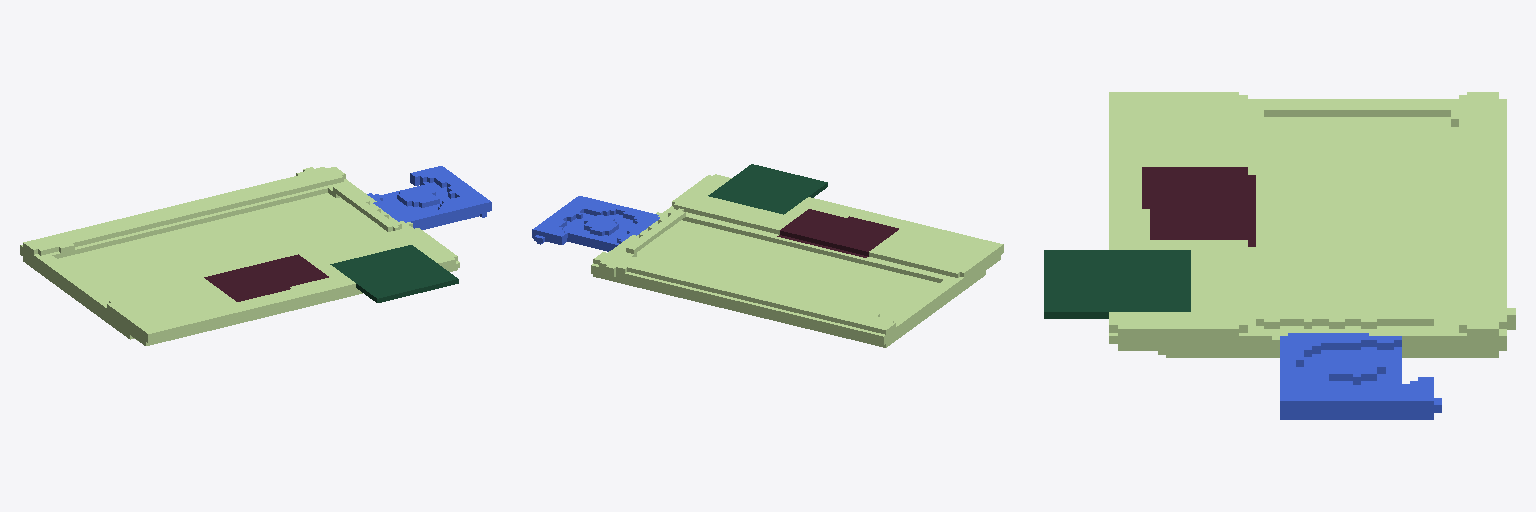
URDF robot description (physxnet_10108_strict):
<?xml version='1.0' encoding='utf-8'?>
<robot name="physxnet_10108_strict">
  <link name="l_world">
    <inertial>
      <origin xyz="0 0 0" rpy="0 0 0" />
      <mass value="0.0100000000" />
      <inertia ixx="0.0000001667" ixy="0.0" ixz="0.0" iyy="0.0000001667" iyz="0.0" izz="0.0000001667" />
    </inertial>
  </link><link name="l_0">
    <inertial>
      <origin xyz="0.1377106810 0.0162584643 -0.0713351551" rpy="0 0 0" />
      <mass value="0.0008136907" />
      <inertia ixx="0.0000004006" ixy="0.0" ixz="0.0" iyy="0.0000003814" iyz="0.0" izz="0.0000007734" />
    </inertial><visual>
      <origin xyz="0 0 0" rpy="0 0 0" />
      <geometry>
        <mesh filename="../rigid_visuals/part_000_visual.obj" scale="1 1 1" />
      </geometry><material name="mat_l_0">
        <color rgba="0.32548 0.48041 0.93131 1.00000" />
      </material>
    </visual><collision>
      <origin xyz="0 0 0" rpy="0 0 0" />
      <geometry>
        <mesh filename="part_000_collision.obj" scale="1 1 1" />
      </geometry>
    </collision>
  </link><joint name="joint_fixed_l_world_l_0" type="fixed">
    <parent link="l_world" />
    <child link="l_0" />
    <origin xyz="0 0 0" rpy="0 0 0" />
  </joint><link name="l_1">
    <inertial>
      <origin xyz="0.0454677170 -0.1021593947 -0.0650971081" rpy="0 0 0" />
      <mass value="0.0001000000" />
      <inertia ixx="0.0000000367" ixy="0.0" ixz="0.0" iyy="0.0000000378" iyz="0.0" izz="0.0000000745" />
    </inertial><visual>
      <origin xyz="0 0 0" rpy="0 0 0" />
      <geometry>
        <mesh filename="../rigid_visuals/part_001_visual.obj" scale="1 1 1" />
      </geometry><material name="mat_l_1">
        <color rgba="0.15447 0.35718 0.26453 1.00000" />
      </material>
    </visual><collision>
      <origin xyz="0 0 0" rpy="0 0 0" />
      <geometry>
        <mesh filename="part_001_collision.obj" scale="1 1 1" />
      </geometry>
    </collision>
  </link><joint name="joint_fixed_l_0_l_1" type="fixed">
    <parent link="l_0" />
    <child link="l_1" />
    <origin xyz="0 0 0" rpy="0 0 0" />
  </joint><link name="l_2">
    <inertial>
      <origin xyz="-0.0352759783 0.1107381362 0.0022845647" rpy="0 0 0" />
      <mass value="0.0379928633" />
      <inertia ixx="0.0000464031" ixy="0.0" ixz="0.0" iyy="0.0002402440" iyz="0.0" izz="0.0002015893" />
    </inertial><visual>
      <origin xyz="0 0 0" rpy="0 0 0" />
      <geometry>
        <mesh filename="../rigid_visuals/part_002_visual.obj" scale="1 1 1" />
      </geometry><material name="mat_l_2">
        <color rgba="0.29417 0.82410 0.87988 1.00000" />
      </material>
    </visual><collision>
      <origin xyz="0 0 0" rpy="0 0 0" />
      <geometry>
        <mesh filename="part_002_collision.obj" scale="1 1 1" />
      </geometry>
    </collision>
  </link><joint name="joint_fixed_l_1_l_2" type="fixed">
    <parent link="l_1" />
    <child link="l_2" />
    <origin xyz="0 0 0" rpy="0 0 0" />
  </joint><link name="l_3">
    <inertial>
      <origin xyz="-0.0372649193 0.1113990221 0.0002664069" rpy="0 0 0" />
      <mass value="0.0363191788" />
      <inertia ixx="0.0000778000" ixy="0.0" ixz="0.0" iyy="0.0003005346" iyz="0.0" izz="0.0002366050" />
    </inertial><visual>
      <origin xyz="0 0 0" rpy="0 0 0" />
      <geometry>
        <mesh filename="../rigid_visuals/part_003_visual.obj" scale="1 1 1" />
      </geometry><material name="mat_l_3">
        <color rgba="0.55944 0.19916 0.68114 1.00000" />
      </material>
    </visual><collision>
      <origin xyz="0 0 0" rpy="0 0 0" />
      <geometry>
        <mesh filename="part_003_collision.obj" scale="1 1 1" />
      </geometry>
    </collision>
  </link><joint name="joint_fixed_l_2_l_3" type="fixed">
    <parent link="l_2" />
    <child link="l_3" />
    <origin xyz="0 0 0" rpy="0 0 0" />
  </joint><link name="l_4">
    <inertial>
      <origin xyz="-0.0383757857 0.0148298784 -0.0659617785" rpy="0 0 0" />
      <mass value="0.0003721228" />
      <inertia ixx="0.0000002825" ixy="0.0" ixz="0.0" iyy="0.0000020194" iyz="0.0" izz="0.0000023018" />
    </inertial><visual>
      <origin xyz="0 0 0" rpy="0 0 0" />
      <geometry>
        <mesh filename="../rigid_visuals/part_004_visual.obj" scale="1 1 1" />
      </geometry><material name="mat_l_4">
        <color rgba="0.31347 0.28085 0.26098 1.00000" />
      </material>
    </visual><collision>
      <origin xyz="0 0 0" rpy="0 0 0" />
      <geometry>
        <mesh filename="part_004_collision.obj" scale="1 1 1" />
      </geometry>
    </collision>
  </link><joint name="joint_fixed_l_3_l_4" type="fixed">
    <parent link="l_3" />
    <child link="l_4" />
    <origin xyz="0 0 0" rpy="0 0 0" />
  </joint><link name="l_5">
    <inertial>
      <origin xyz="-0.0420536458 -0.0615295178 -0.0654798585" rpy="0 0 0" />
      <mass value="0.0001237437" />
      <inertia ixx="0.0000000253" ixy="0.0" ixz="0.0" iyy="0.0000000661" iyz="0.0" izz="0.0000000913" />
    </inertial><visual>
      <origin xyz="0 0 0" rpy="0 0 0" />
      <geometry>
        <mesh filename="../rigid_visuals/part_005_visual.obj" scale="1 1 1" />
      </geometry><material name="mat_l_5">
        <color rgba="0.31346 0.15755 0.21545 1.00000" />
      </material>
    </visual><collision>
      <origin xyz="0 0 0" rpy="0 0 0" />
      <geometry>
        <mesh filename="part_005_collision.obj" scale="1 1 1" />
      </geometry>
    </collision>
  </link><joint name="joint_fixed_l_4_l_5" type="fixed">
    <parent link="l_4" />
    <child link="l_5" />
    <origin xyz="0 0 0" rpy="0 0 0" />
  </joint><link name="l_6">
    <inertial>
      <origin xyz="-0.0334187746 -0.0061677801 -0.0706932234" rpy="0 0 0" />
      <mass value="0.0117644775" />
      <inertia ixx="0.0000368786" ixy="0.0" ixz="0.0" iyy="0.0000756985" iyz="0.0" izz="0.0001122871" />
    </inertial><visual>
      <origin xyz="0 0 0" rpy="0 0 0" />
      <geometry>
        <mesh filename="../rigid_visuals/part_006_visual.obj" scale="1 1 1" />
      </geometry><material name="mat_l_6">
        <color rgba="0.81497 0.92565 0.67671 1.00000" />
      </material>
    </visual><collision>
      <origin xyz="0 0 0" rpy="0 0 0" />
      <geometry>
        <mesh filename="part_006_collision.obj" scale="1 1 1" />
      </geometry>
    </collision>
  </link><joint name="joint_fixed_l_5_l_6" type="fixed">
    <parent link="l_5" />
    <child link="l_6" />
    <origin xyz="0 0 0" rpy="0 0 0" />
  </joint>
</robot>

--- What the picture shows (computed from the rendered views, not written in the file) ---
The picture shows the robot from 3 angles, left to right: view 1: azimuth 30°, elevation 25°; view 2: azimuth 150°, elevation 25°; view 3: azimuth 270°, elevation 25°; orthographic projection.
Robot: physxnet_10108_strict — 8 links, 7 joints (7 fixed); root link l_world; default pose: all joints at 0.
Links seen in each view (by area): view 1: l_6, l_0, l_1, l_5; view 2: l_6, l_0, l_1, l_5; view 3: l_6, l_0, l_1, l_5.
Link boxes in pixels (x1,y1,x2,y2): l_6: (20,167,459,345); l_0: (367,166,491,229); l_1: (330,245,458,302); l_5: (204,254,328,301); l_6: (591,174,1003,347); l_0: (532,196,659,251); l_1: (708,164,827,214); l_5: (777,209,898,257); l_6: (1109,92,1515,357); l_0: (1280,333,1441,419); l_1: (1044,250,1190,318); l_5: (1142,167,1255,246).
Bounding box of the posed robot: 0.352 × 0.232 × 0.016 m (x, y, z).
Meshes: 7 distinct files referenced, 4 mesh visuals loaded (4 OBJ); not drawn: 3 (reference not matched to a file when rendering).
